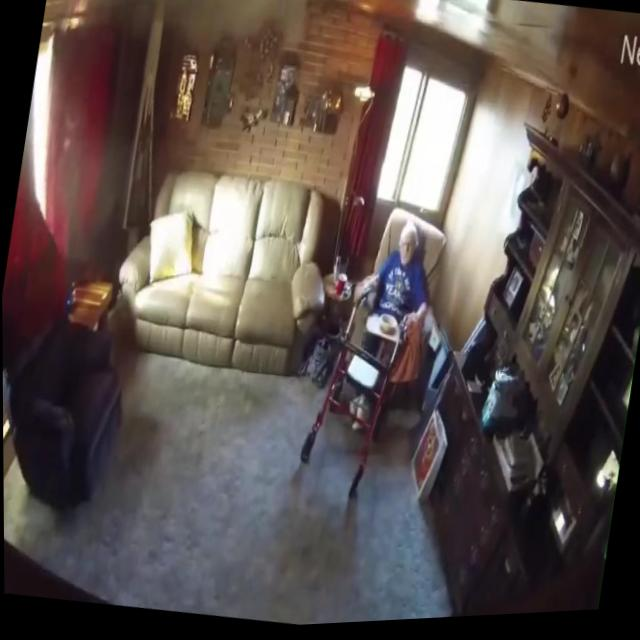fire: (66, 0, 91, 30)
